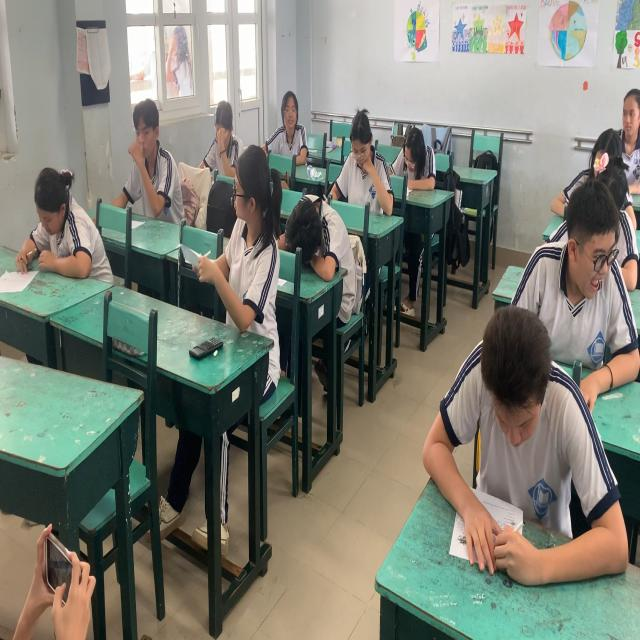cheating: (546, 174, 633, 409), (230, 153, 280, 350)
not_cheating: (449, 319, 604, 589), (116, 101, 178, 218), (29, 163, 91, 274), (334, 105, 387, 222), (394, 116, 444, 202), (287, 190, 342, 266), (206, 87, 235, 163), (276, 91, 304, 163)
